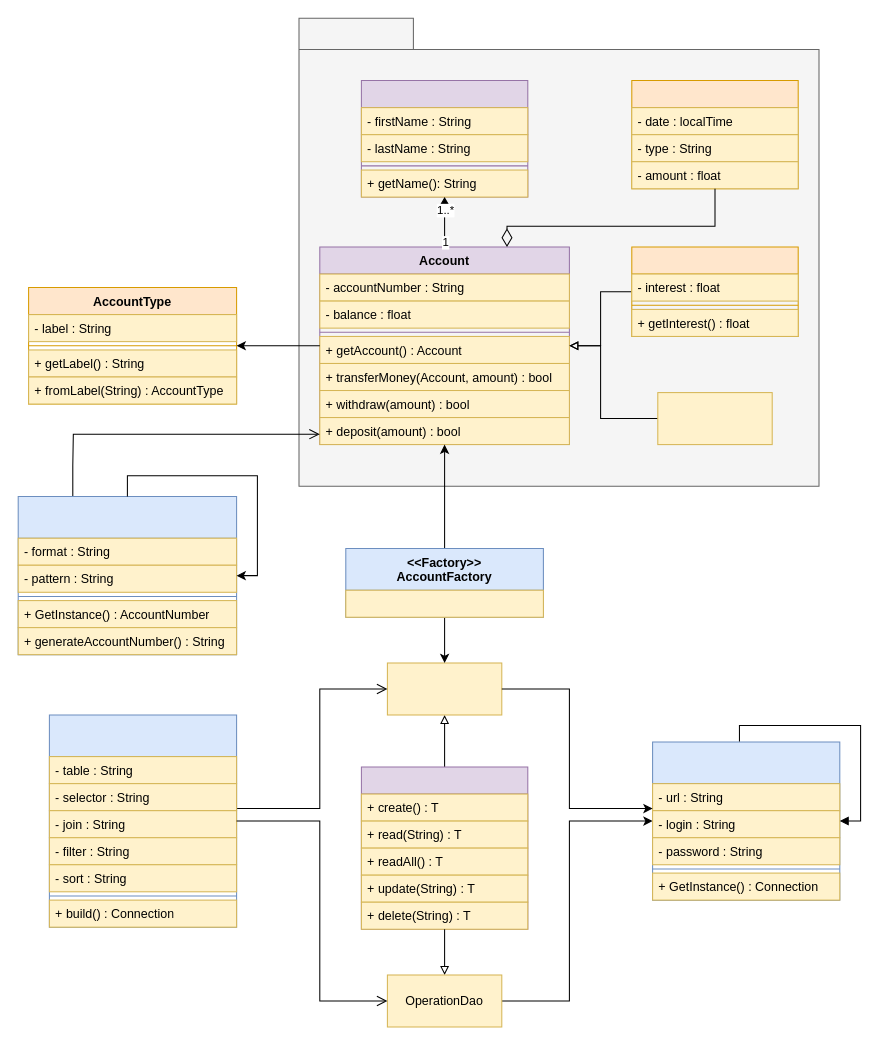
Image size: 887x1045. Some labels were removed from this diagram. The box of each missing label's shape, as (x1, y1, x2, y2) in pixels:
+ createAccount(String) : Account: (345, 589, 543, 617)
<<Builder>> SqlQuery: (48, 714, 237, 927)
<<Singleton>> AccountNumber: (17, 496, 237, 655)
<<Singleton>> Connection: (652, 741, 840, 900)
AccountDao: (386, 662, 502, 715)
CheckingAccount: (657, 392, 772, 445)
Client: (360, 80, 528, 197)
Dao<T>: (360, 766, 528, 929)
Model: (298, 17, 819, 486)
Operation: (631, 80, 798, 189)
SavingsAccount: (631, 246, 798, 336)
